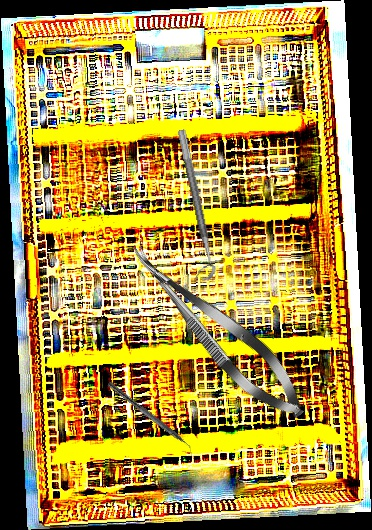Chopper: (102, 381, 200, 459)
Fixation Ring: (164, 128, 219, 284)
Micro Scissor: (115, 229, 319, 432)
